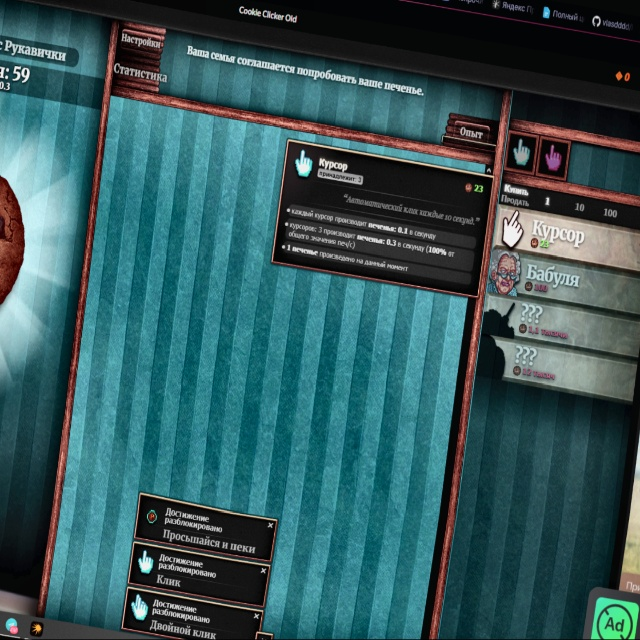game: (0, 172, 22, 289)
pokypki: (488, 186, 640, 405)
